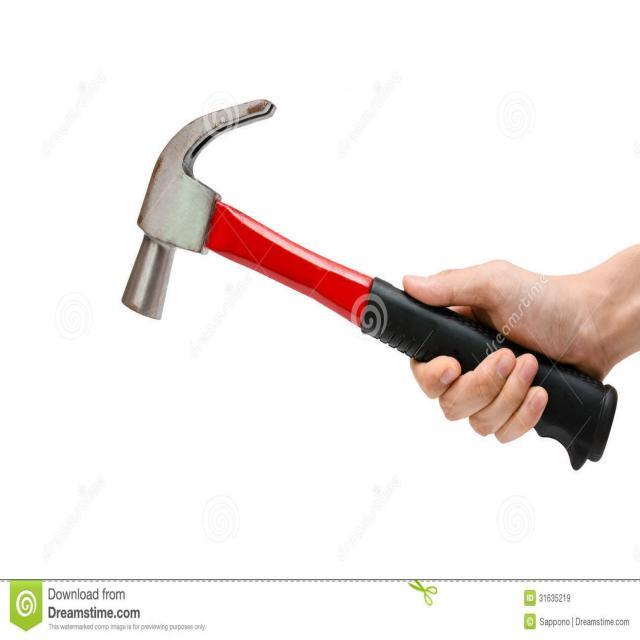hammer: (110, 90, 620, 482)
